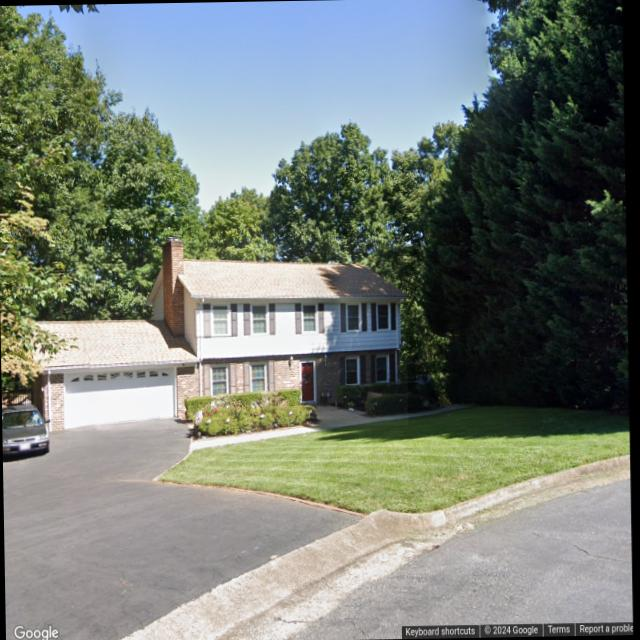House: (22, 235, 408, 431)
